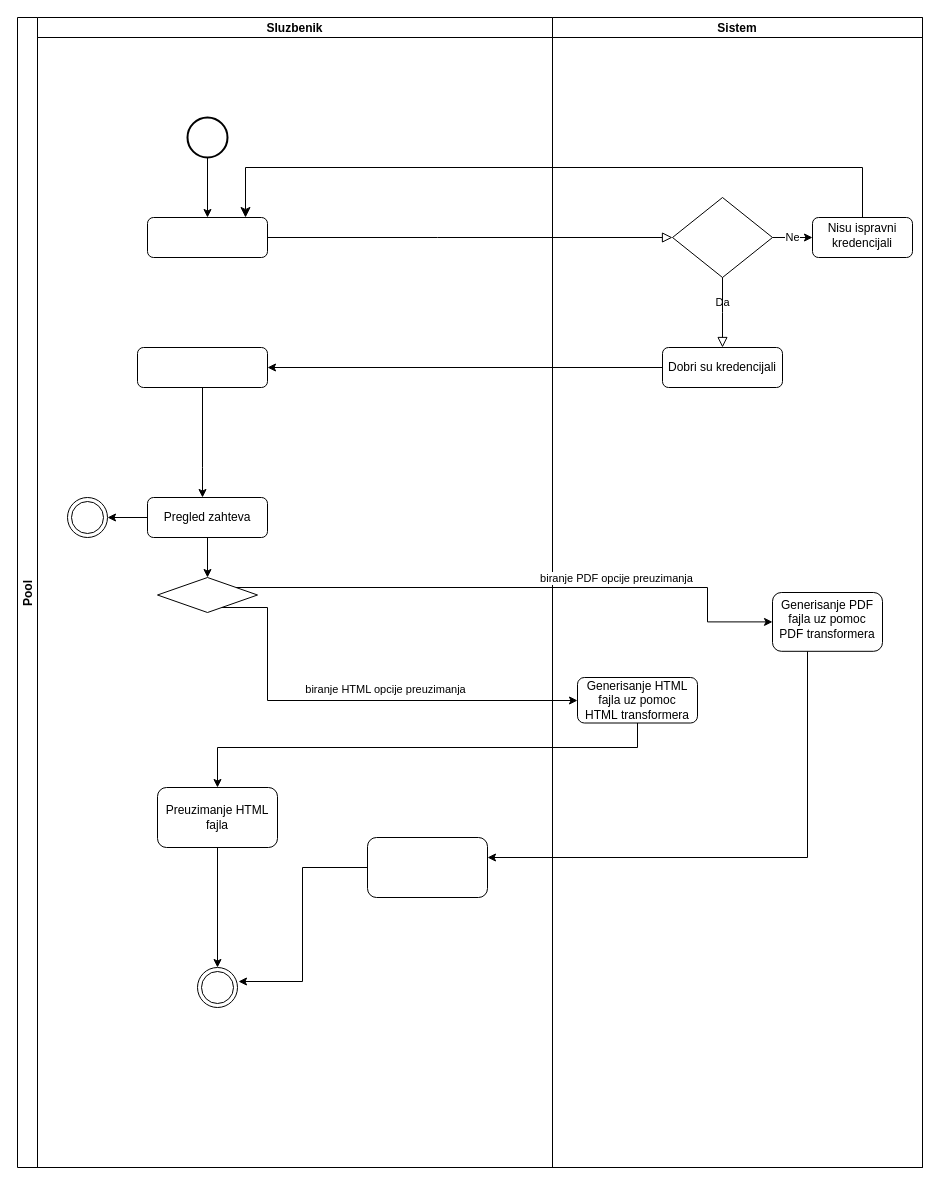
This 940x1185 diagram has some shape labels left out. Each missing label, with the centre of its shape:
"Biranje opcije pregleda zahteva" goes at point (202, 367).
"ispravni kredencijali?" goes at point (722, 237).
"Preuzimanje PDF fajla" goes at point (427, 867).
"Prijava na sistem" goes at point (207, 237).
